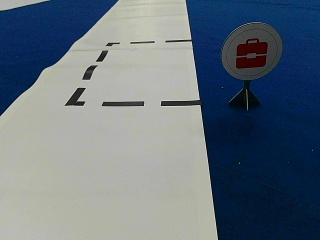company: (222, 22, 283, 78)
